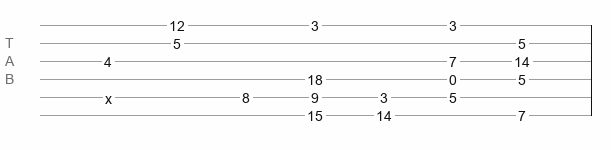0: (449, 72, 457, 82)
12: (169, 18, 185, 28)
14: (376, 108, 392, 118), (514, 54, 530, 64)
15: (307, 108, 323, 118)
18: (307, 72, 323, 82)
3: (311, 18, 319, 28), (380, 90, 388, 100), (449, 18, 457, 28)
4: (104, 54, 112, 64)
5: (173, 36, 181, 46), (449, 90, 457, 100), (518, 36, 526, 46), (518, 72, 526, 82)
7: (449, 54, 457, 64), (518, 108, 526, 118)
8: (242, 90, 250, 100)
9: (311, 90, 319, 100)
x: (105, 91, 112, 99)
